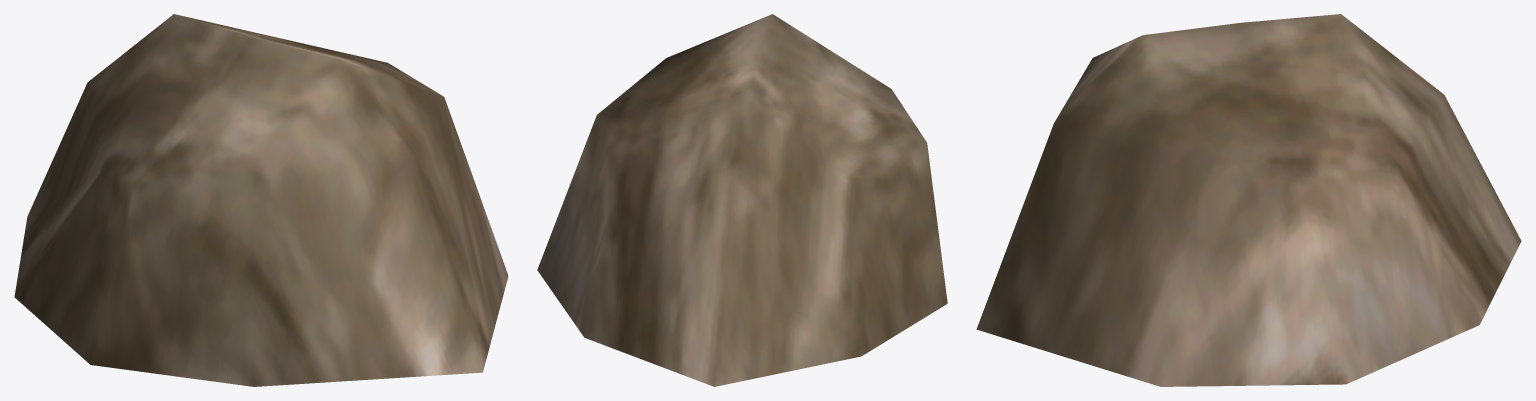
The model's file is OVERHILL_A_01_ROCK98.fbx.
The picture shows the model from 3 angles, left to right: view 1: azimuth 30°, elevation 25°; view 2: azimuth 150°, elevation 25°; view 3: azimuth 270°, elevation 25°; orthographic projection. The views are drawn at different scales.
Parts seen in each view (by area): view 1: OVERHILL_A_01_ROCK98; view 2: OVERHILL_A_01_ROCK98; view 3: OVERHILL_A_01_ROCK98.
Boxes of the visible parts, x1,y1,x2,y2 form: OVERHILL_A_01_ROCK98: (14,14,508,386); OVERHILL_A_01_ROCK98: (537,14,947,386); OVERHILL_A_01_ROCK98: (976,14,1521,386).
Size of the model in its own units: 3676 by 2312 by 4305.
1 material, 1 textured.
